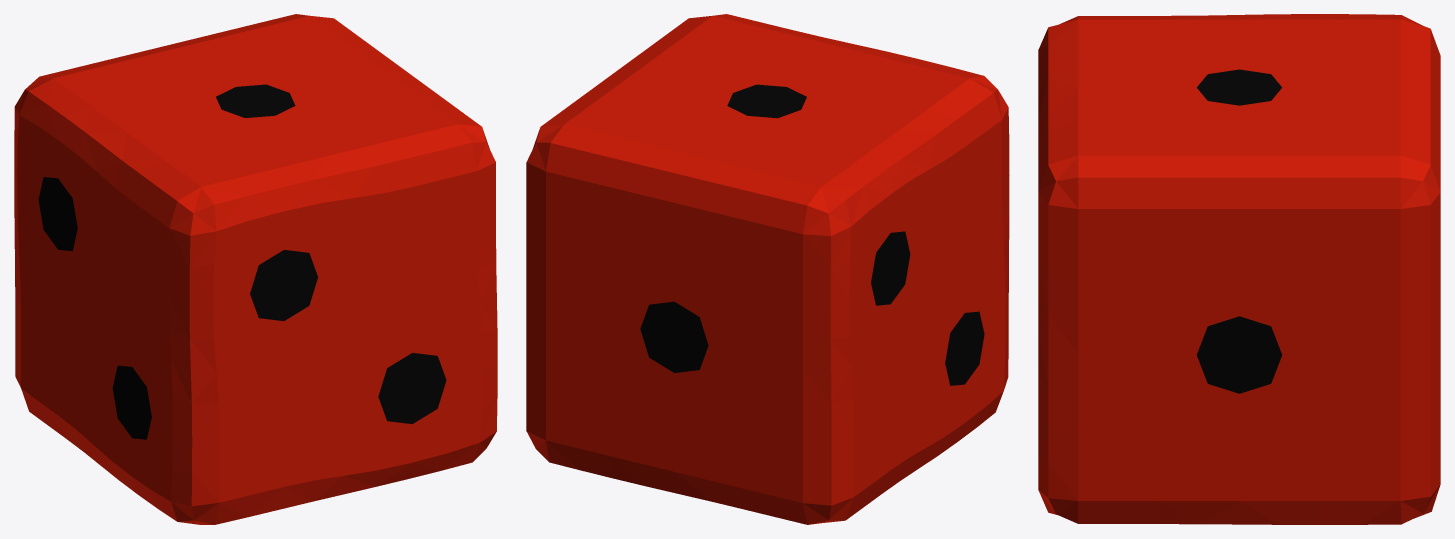
The picture shows the model from 3 angles, left to right: view 1: azimuth 30°, elevation 25°; view 2: azimuth 150°, elevation 25°; view 3: azimuth 270°, elevation 25°; orthographic projection. The views are drawn at different scales.
Parts seen in each view (by area): view 1: Cube; view 2: Cube; view 3: Cube.
Boxes of the visible parts, box(x1,y1,x2,y2) form: Cube: box(14, 14, 497, 524); Cube: box(526, 14, 1009, 524); Cube: box(1038, 14, 1440, 524).
Size of the model in its own units: 2 by 2 by 2.
